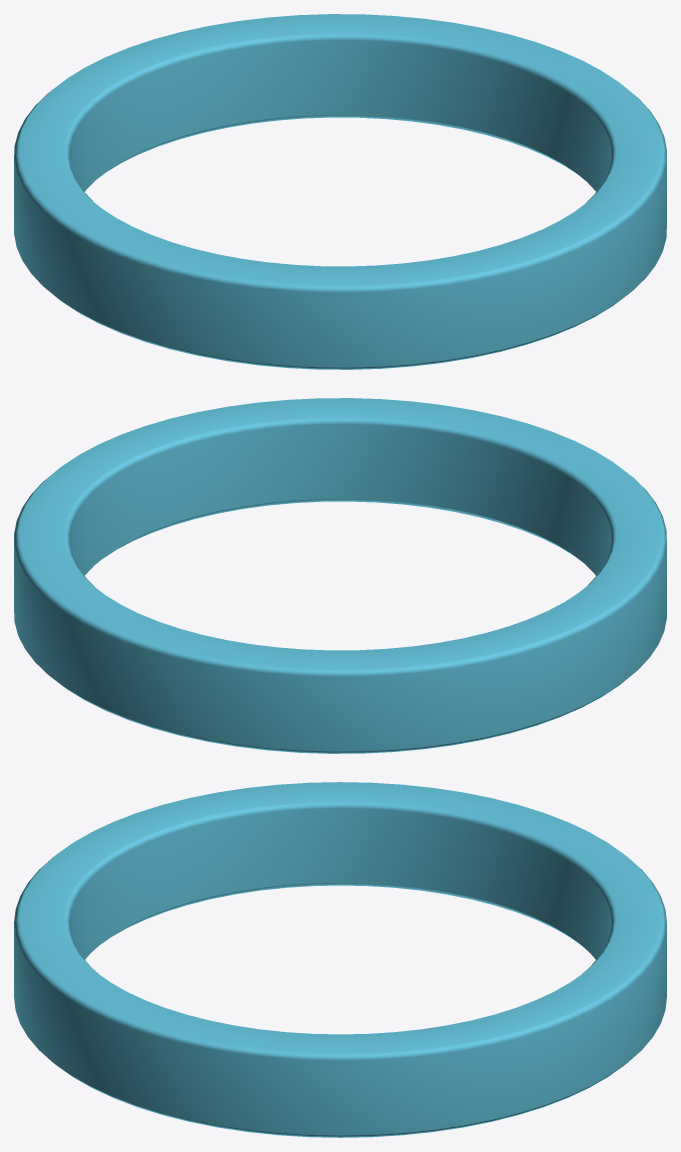
The picture shows the model from 3 angles, top to bottom: view 1: azimuth 30°, elevation 25°; view 2: azimuth 150°, elevation 25°; view 3: azimuth 270°, elevation 25°; orthographic projection.
Visible parts, largest first — view 1: seal_body; view 2: seal_body; view 3: seal_body.
Boxes of the visible parts, x1,y1,x2,y2 form: seal_body: (14, 14, 666, 369); seal_body: (14, 398, 666, 753); seal_body: (14, 782, 666, 1137).
Size of the model in its own units: 0.1111 by 0.0159 by 0.1111.
